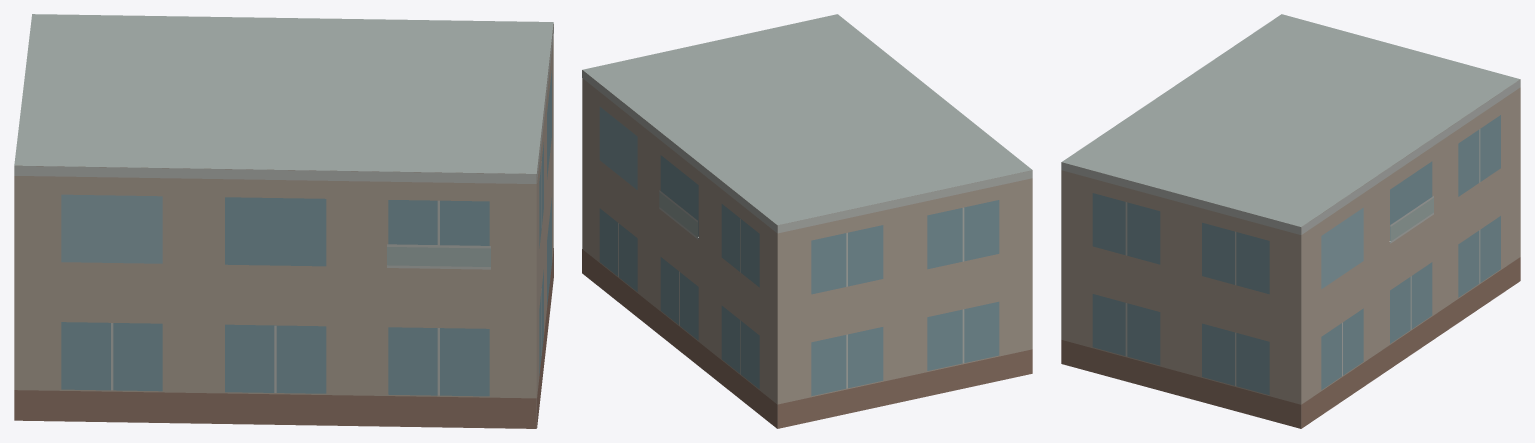
The model's file is survey-upis-32911350.glb.
3 views of the same model, side by side, from view 1: azimuth 30°, elevation 25°; view 2: azimuth 150°, elevation 25°; view 3: azimuth 270°, elevation 25° (orthographic). The views are drawn at different scales.
Parts seen in each view (by area): view 1: survey-upis-32911350.tmp; view 2: survey-upis-32911350.tmp; view 3: survey-upis-32911350.tmp.
Part boxes in pixels (box(x1,y1,x2,y2)): survey-upis-32911350.tmp: box(14, 14, 553, 428); survey-upis-32911350.tmp: box(582, 14, 1032, 428); survey-upis-32911350.tmp: box(1061, 14, 1520, 428).
Bounding box in the file's own units: 13.83 × 6.1 × 12.59.
